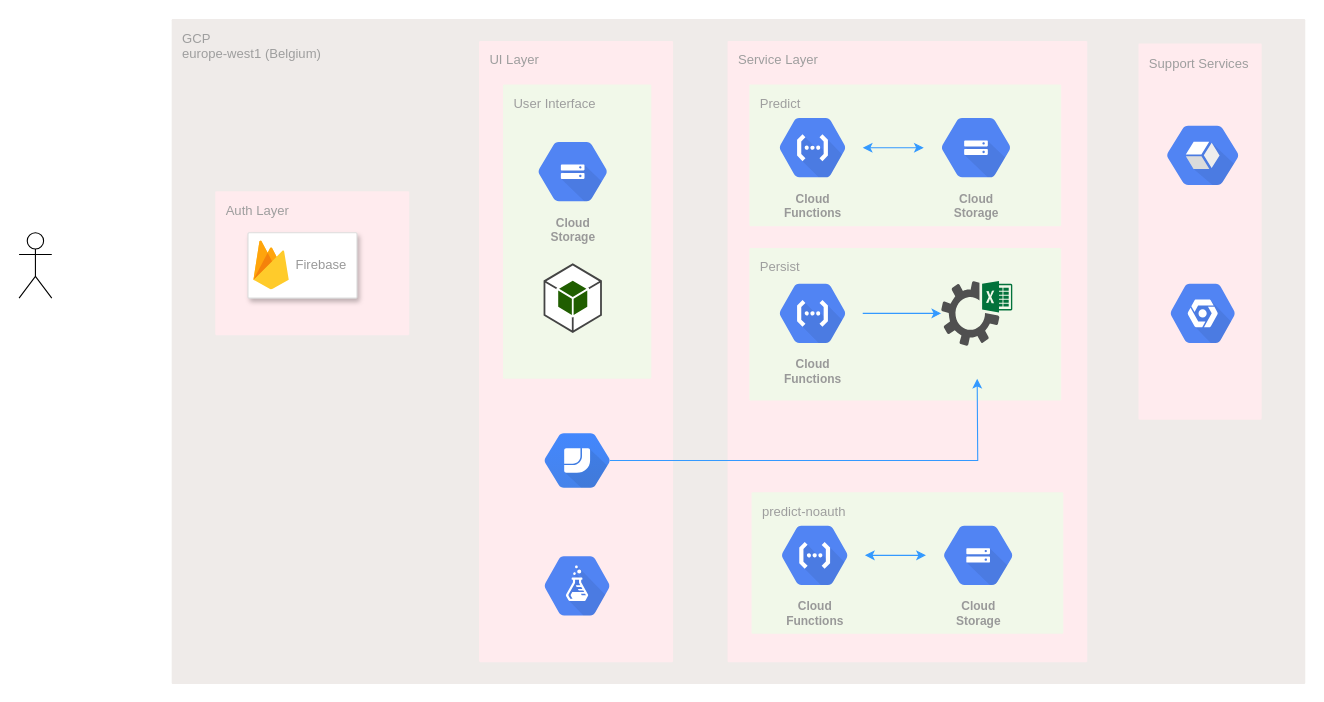
This 1324x702 diagram has some shape labels left out. The shapes that lost their labels are listed below. From the top down, each one's centre as x and y in pixels, then its label:
At point (1202, 154): "Stackdriver".
At point (35, 265): "Actor".
At point (572, 297): "React UI".
At point (976, 312): "Google Sheets".
At point (1202, 312): "Cloud Source Repositories".
At point (576, 460): "Cloud DataStudio".
At point (576, 585): "Cloud Datalab".
